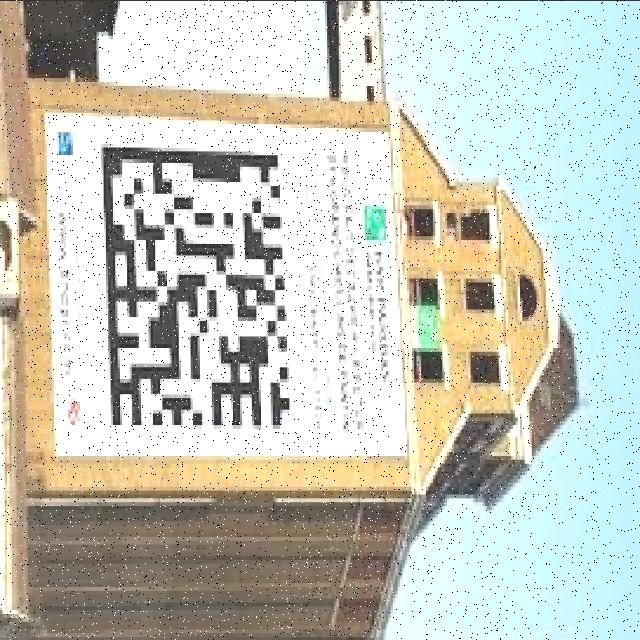datamatrix: (96, 135, 299, 439)
